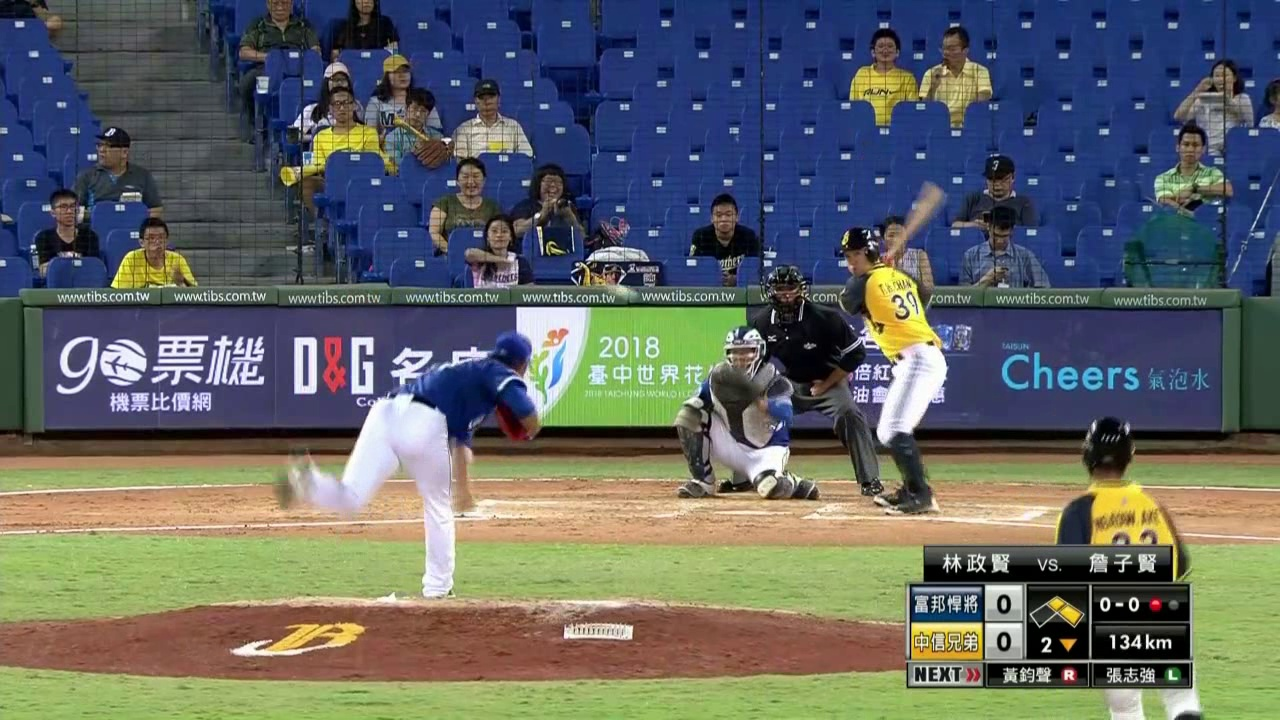ball: (613, 282, 628, 298)
base: (1028, 594, 1085, 628)
bat: (879, 180, 950, 265)
out: (1144, 588, 1183, 618)
score1: (988, 589, 1020, 617)
score2: (988, 625, 1020, 655)
session: (1028, 629, 1086, 655)
speed: (1093, 628, 1182, 658)
strikeball: (1093, 589, 1142, 620)
